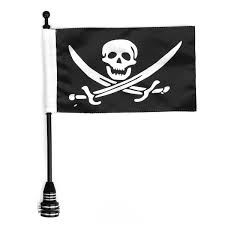Jolly Roger Flag: (52, 24, 199, 115)
